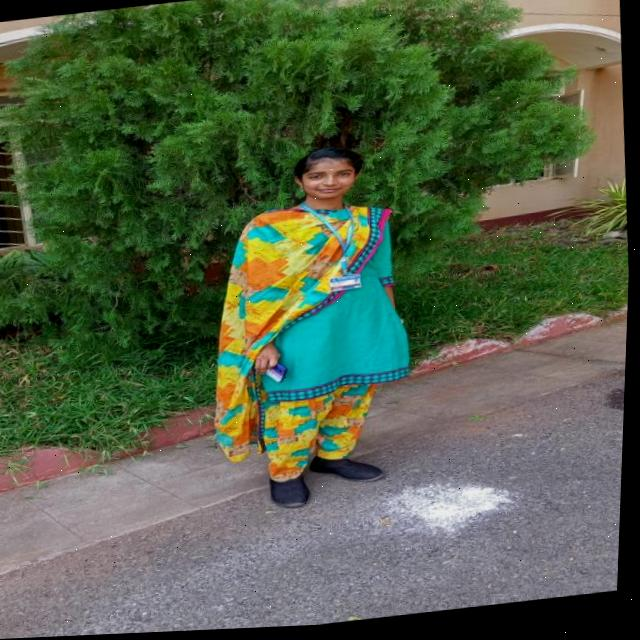id_card: (303, 197, 374, 302)
